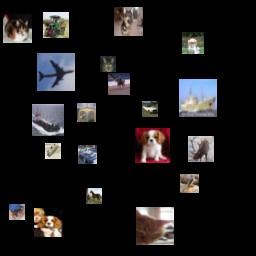airplane: (37, 53, 75, 91)
automobile: (78, 145, 97, 164), (142, 101, 158, 117)
bird: (180, 174, 199, 193)
cat: (136, 207, 174, 245), (3, 14, 32, 43), (9, 204, 25, 220), (100, 56, 116, 72)
deer: (188, 136, 214, 162)
dog: (135, 128, 170, 163), (34, 208, 63, 237), (114, 7, 143, 36), (182, 32, 204, 54)
ship: (179, 79, 217, 117), (32, 104, 64, 136), (45, 143, 61, 159)
truck: (43, 12, 69, 38), (77, 103, 96, 122)
